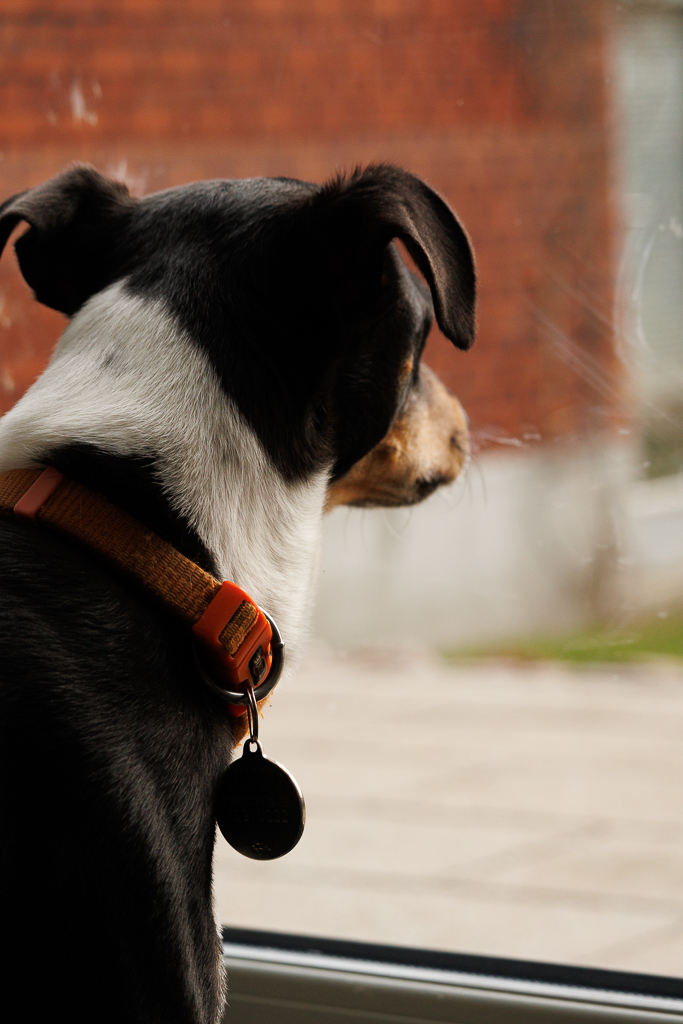Dog: (0, 138, 506, 1024)
